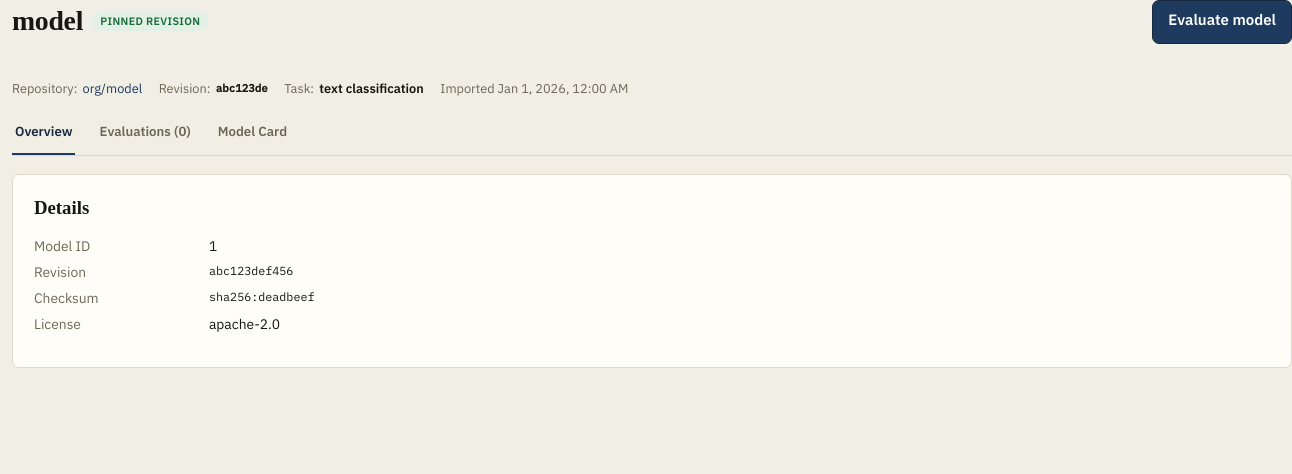
Test case: the Model Card tab shows the model card but no documentation-source form
Expected: the text "Pinned revision" is shown, [92,11,209,31]
Click the tab "Model Card" at (252, 132), box [215,110,290,154]
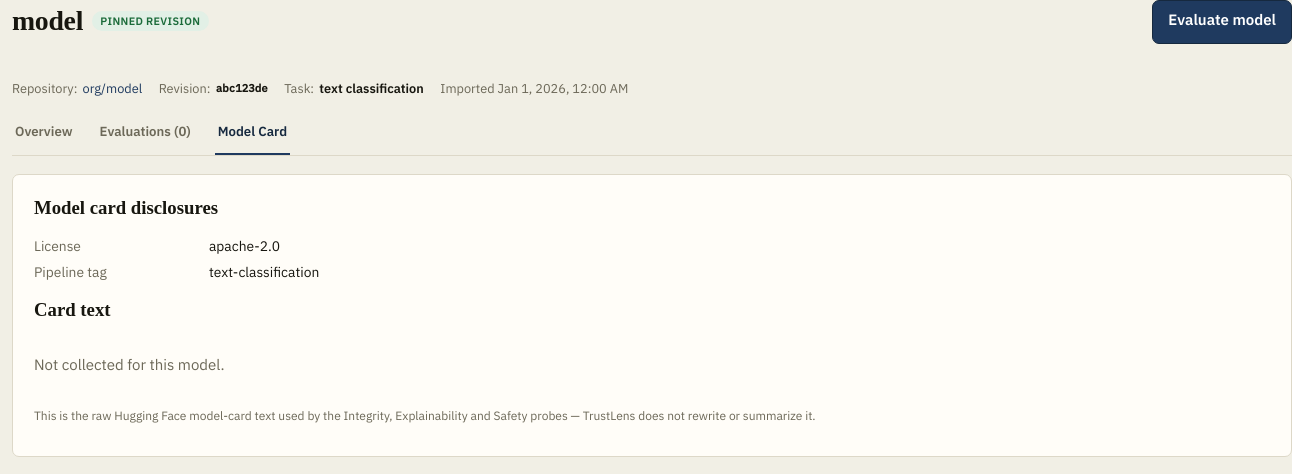
Now the heading "Model card disclosures" is shown, box [34,197,218,218]
